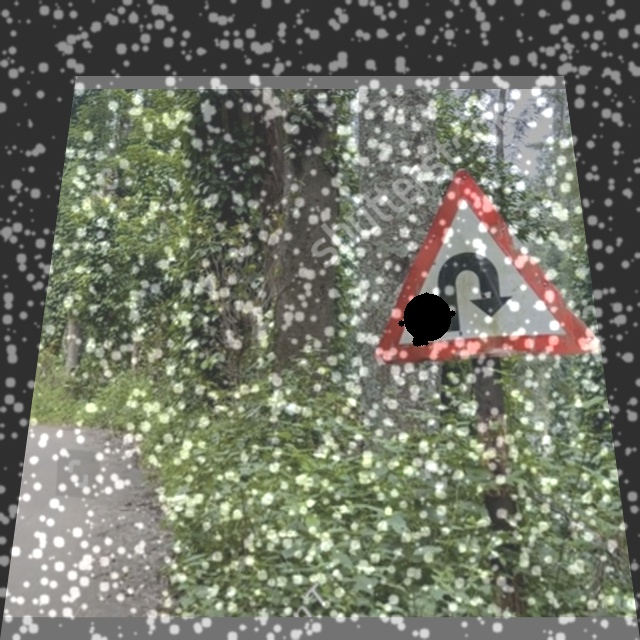Right_Hair_Pin_Bend: (380, 167, 600, 355)
